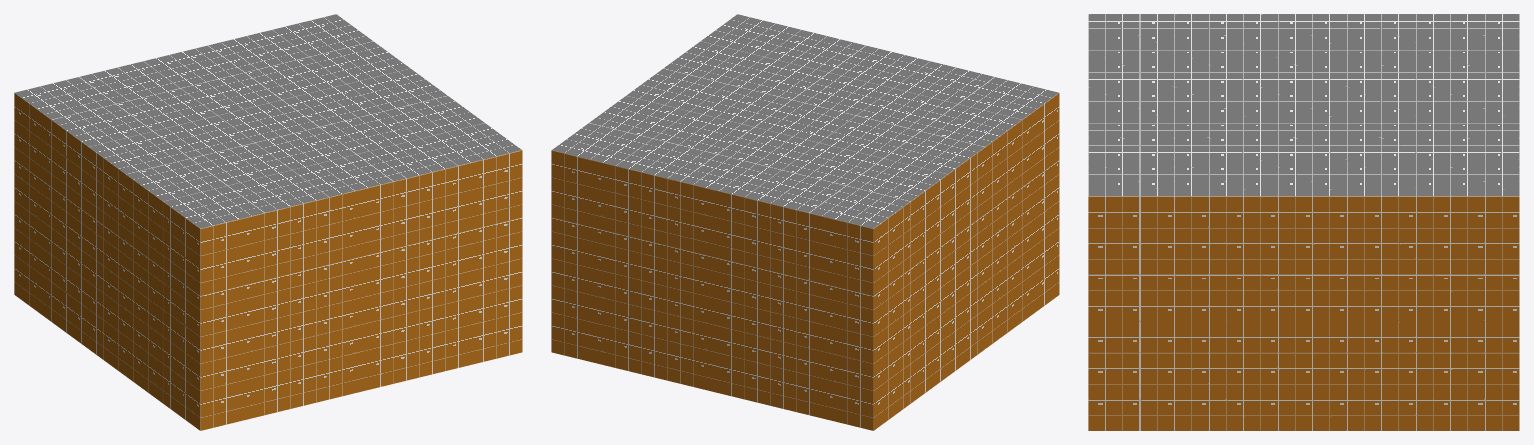
File: room.obj
3 views of the same model, side by side, from view 1: azimuth 30°, elevation 25°; view 2: azimuth 150°, elevation 25°; view 3: azimuth 270°, elevation 25° (orthographic). The views are drawn at different scales.
Parts seen in each view (by area): view 1: room; view 2: room; view 3: room.
Part boxes in pixels (box(x1,y1,x2,y2)): room: box(14, 14, 522, 430); room: box(551, 14, 1059, 430); room: box(1088, 14, 1519, 430).
Bounding box in the file's own units: 50 × 30 × 50.
